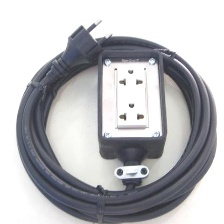three_eye_plug: (92, 47, 172, 161)
